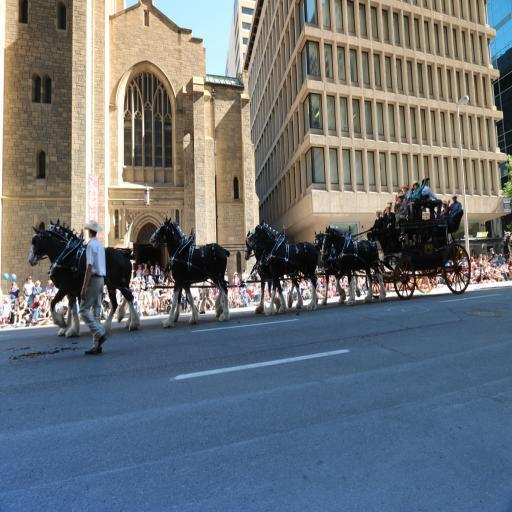horse: (28, 218, 135, 330), (148, 212, 230, 330), (58, 216, 134, 331), (245, 217, 321, 314), (322, 226, 387, 304), (244, 229, 302, 315), (311, 232, 362, 305)
